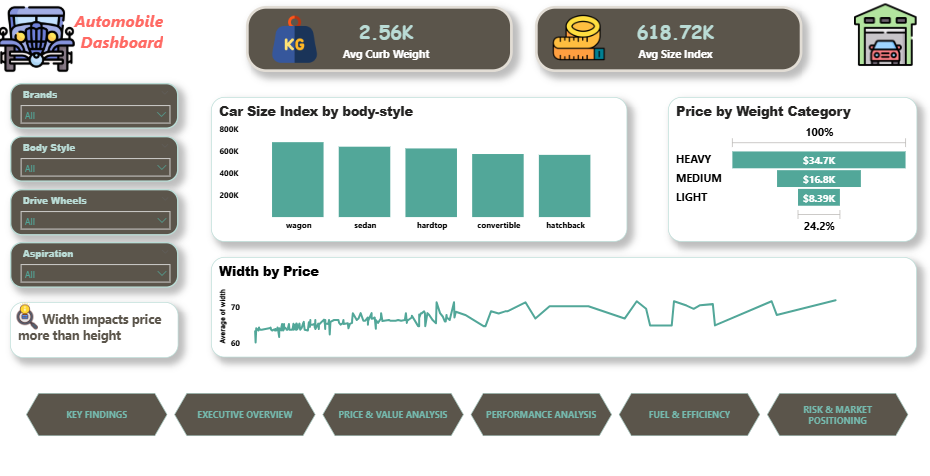

The page's visual inventory and layout, read from the dashboard file:
{"tool":"powerbi","page":{"name":"SIZE & DESIGN IMPACT","canvas":[1400,720],"ordinal":6},"visuals":[{"type":"slicer","fields":{"Values":["automobile_data.make"]},"box":[18.1,122.9,249.6,68],"z":0},{"type":"slicer","fields":{"Values":["automobile_data.body-style"]},"box":[18.1,202.1,250,68],"z":1000},{"type":"slicer","fields":{"Values":["automobile_data.drive-wheels"]},"box":[18.1,280.9,250.2,68.8],"z":2000},{"type":"slicer","fields":{"Values":["automobile_data.aspiration"]},"box":[18.1,359,250.2,67.8],"z":3000},{"type":"textbox","box":[0,9.4,250.2,81.3],"z":4000},{"type":"image","box":[0,0,113.6,115.9],"z":5000},{"type":"image","box":[1271.2,0,93.5,102.6],"z":6000},{"type":"card","fields":{"Values":["automobile_data.Avg Curb Weight"]},"box":[368.8,9.1,395.9,98.3],"z":7000},{"type":"image","box":[405.3,22.3,69.8,72.7],"z":8000},{"type":"card","fields":{"Values":["automobile_data.Avg Size Index"]},"box":[796.9,9.1,396.7,98],"z":9000},{"type":"image","box":[813.6,16.3,96.5,78.7],"z":10000},{"type":"funnel","title":"Price by Weight Category","fields":{"Y":["Avg(automobile_data.price)"],"Category":["automobile_data.Weight Category"]},"box":[994.7,144,369.7,215.3],"z":11000},{"type":"columnChart","title":"Car Size Index by body-style","fields":{"Category":["automobile_data.body-style"],"Y":["Avg(automobile_data.Car Size Index)"]},"box":[316.2,144,617.6,215.3],"z":12000},{"type":"lineChart","title":"Width by Price","fields":{"Y":["Avg(automobile_data.width)"],"Category":["automobile_data.price"]},"box":[315.8,381.9,1047.7,149.3],"z":13000},{"type":"textbox","box":[17.1,448,249.7,83.2],"z":14000},{"type":"image","box":[16.8,447.7,54.3,41.4],"z":15000},{"type":"pageNavigator","box":[41.4,583.5,1315.9,64.7],"z":16000}]}

Visuals, with their boxes in screenshot pixels (x1, y1, x2, y2), scaled from the page's 1400x720 canvas onto the 930x476 screenshot:
slicer - automobile_data.make: Rect(12, 81, 178, 126)
slicer - automobile_data.body-style: Rect(12, 134, 178, 179)
slicer - automobile_data.drive-wheels: Rect(12, 186, 178, 231)
slicer - automobile_data.aspiration: Rect(12, 237, 178, 282)
textbox: Rect(0, 6, 166, 60)
image: Rect(0, 0, 75, 77)
image: Rect(844, 0, 907, 68)
card - automobile_data.Avg Curb Weight: Rect(245, 6, 508, 71)
image: Rect(269, 15, 316, 63)
card - automobile_data.Avg Size Index: Rect(529, 6, 793, 71)
image: Rect(540, 11, 605, 63)
"Price by Weight Category" funnel: Rect(661, 95, 906, 238)
"Car Size Index by body-style" columnChart: Rect(210, 95, 620, 238)
"Width by Price" lineChart: Rect(210, 252, 906, 351)
textbox: Rect(11, 296, 177, 351)
image: Rect(11, 296, 47, 323)
pageNavigator: Rect(28, 386, 902, 429)
